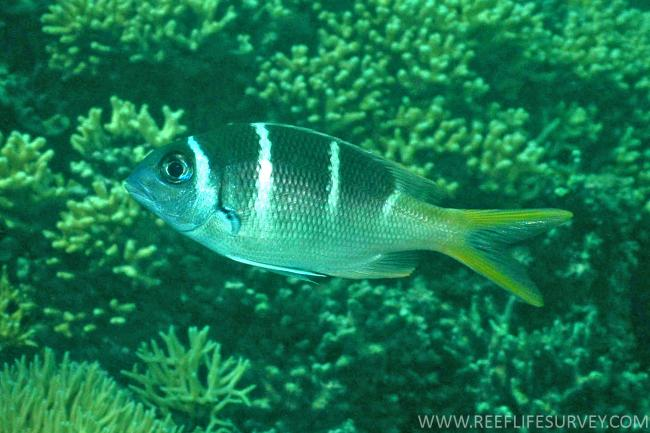fish: (123, 121, 573, 308)
